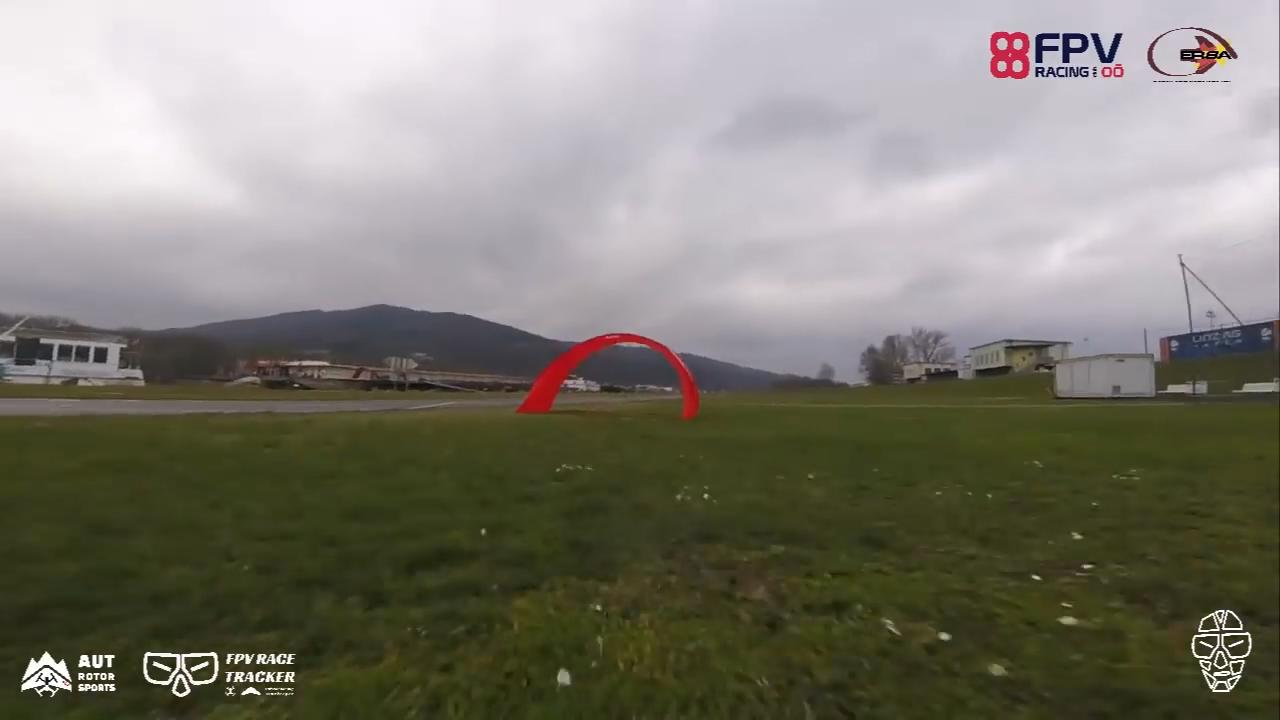gate: (516, 329, 699, 423)
